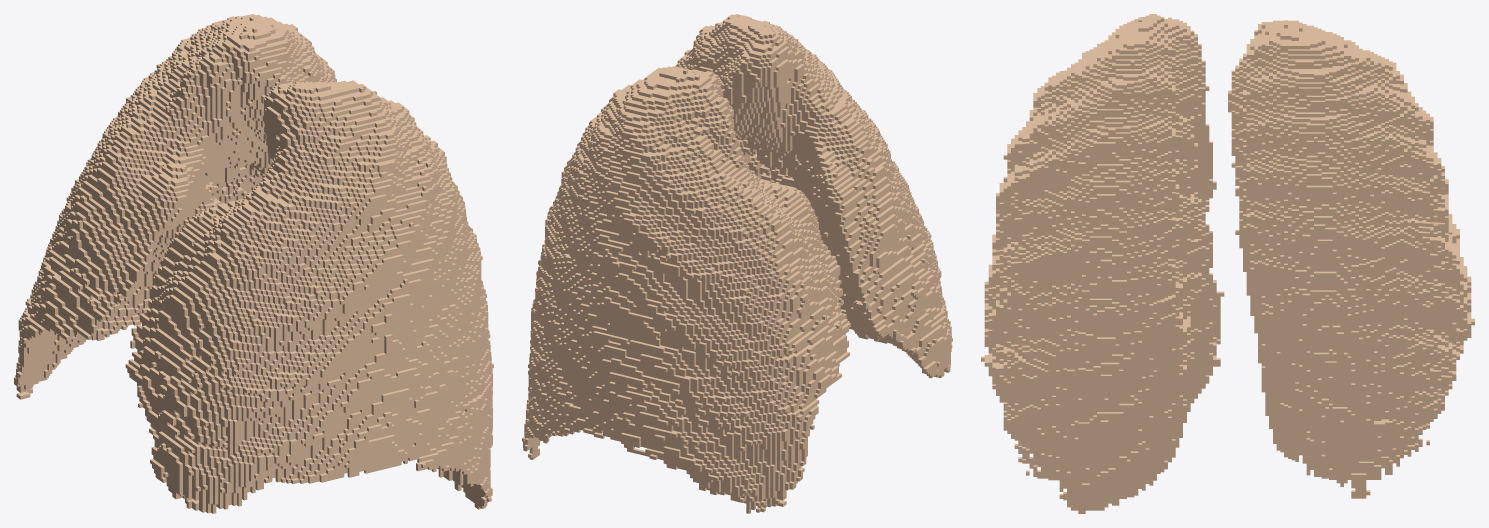
Rendered from lung.fbx.
3 renders of one model, left to right at view 1: azimuth 30°, elevation 25°; view 2: azimuth 150°, elevation 25°; view 3: azimuth 270°, elevation 25°, orthographic. The views are drawn at different scales.
Parts seen in each view (by area): view 1: AustinMan; view 2: AustinMan; view 3: AustinMan.
Part boxes in pixels (x1,y1,x2,y2): AustinMan: [14, 14, 493, 513]; AustinMan: [522, 14, 952, 513]; AustinMan: [981, 14, 1474, 513].
Bounding box in the file's own units: 9900 × 12700 × 13200.
